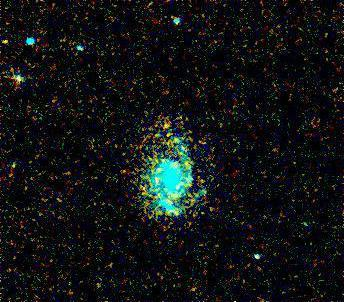star: (0, 26, 18, 56)
